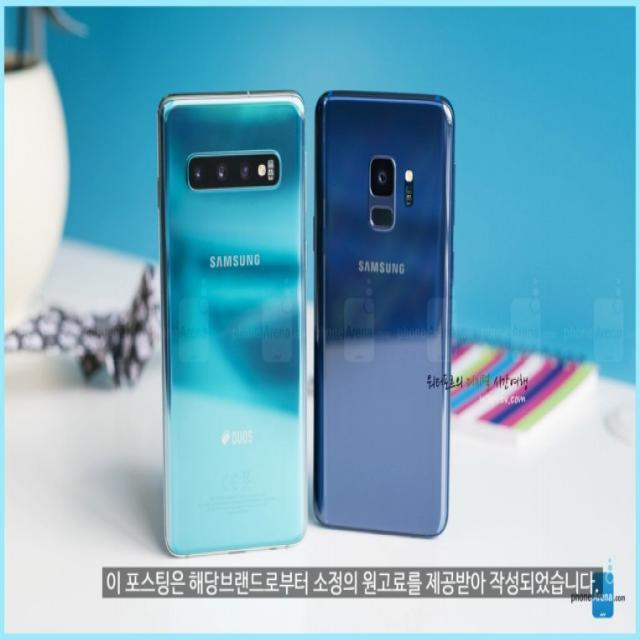Mobile: (157, 90, 312, 554), (312, 82, 461, 536)
